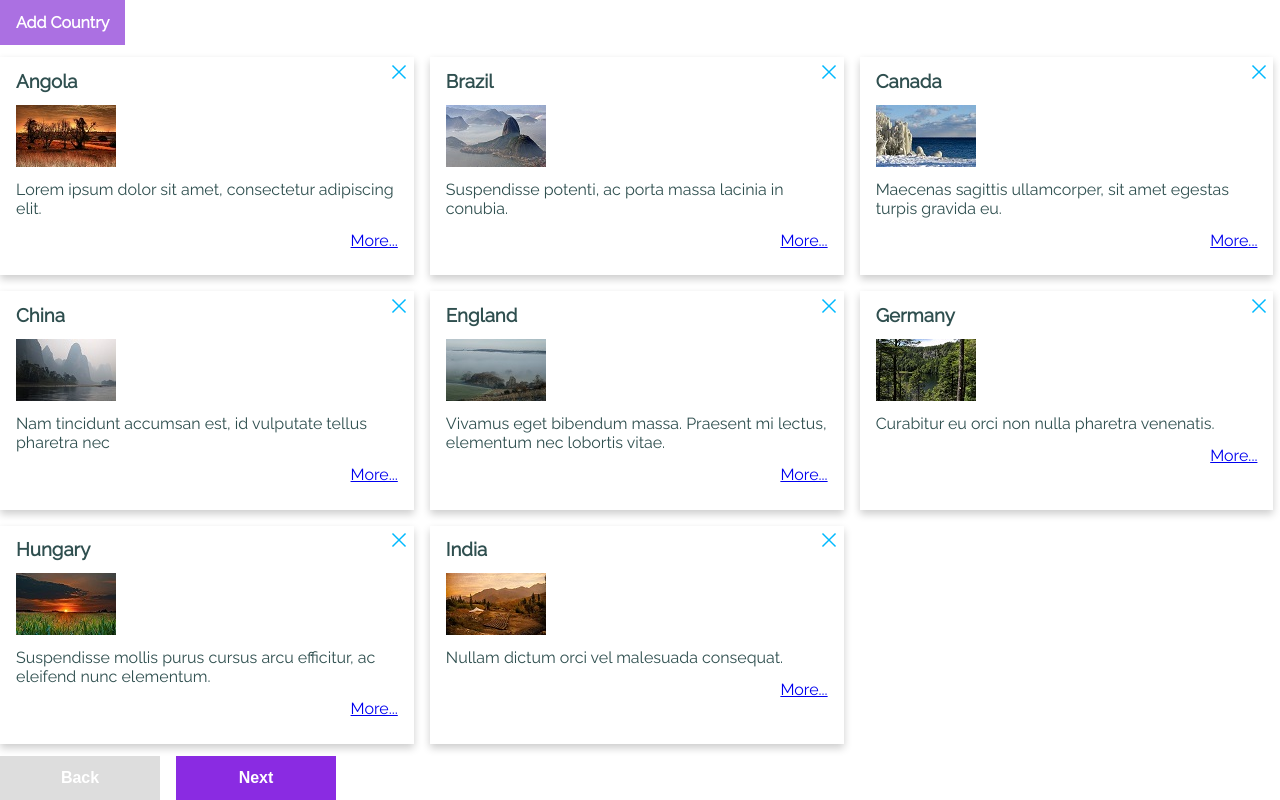
Test case: Delete country › clicking on the OK button deletes the country
Expected: the heading "Angola" is shown, x1=16 y1=70 x2=78 y2=92
Click the button named "Delete country" in the row of "Angola": (399, 72) x1=391 y1=64 x2=407 y2=80
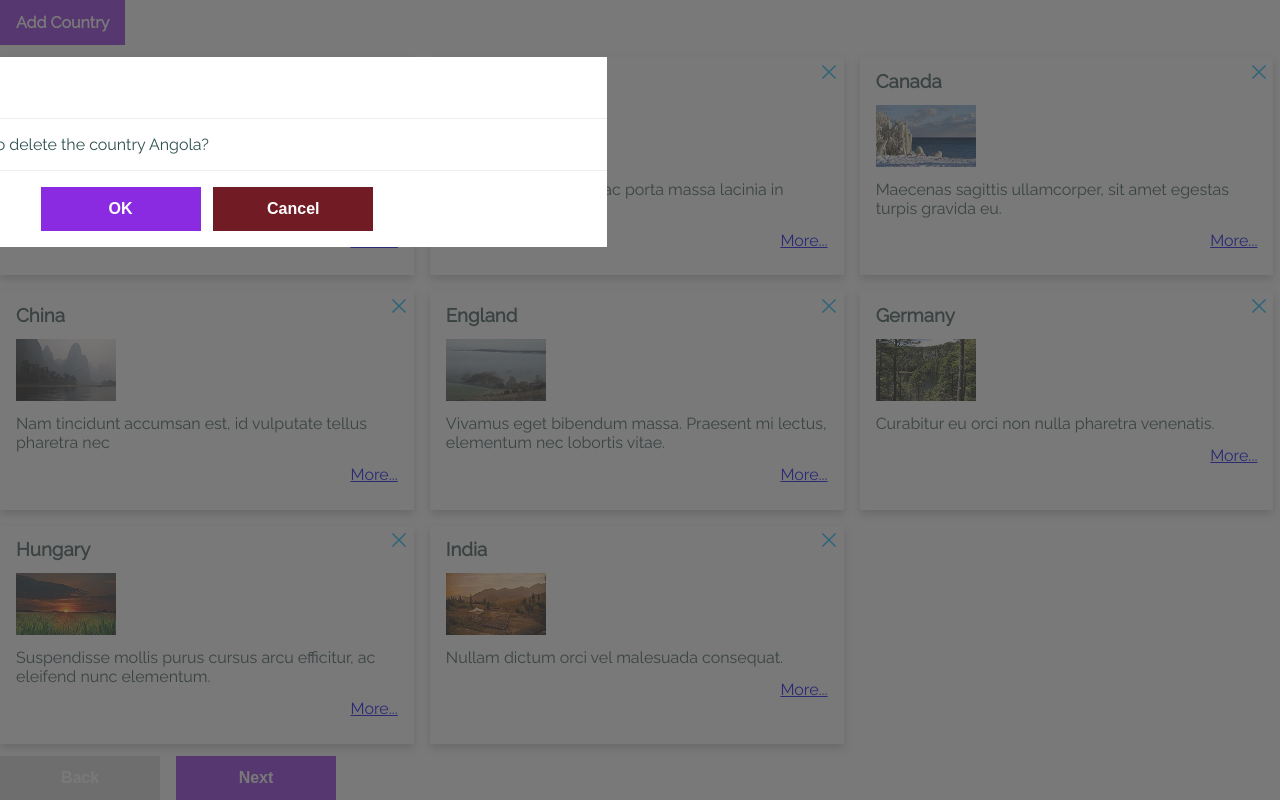
Click the button "OK": (120, 209) x1=40 y1=187 x2=200 y2=231
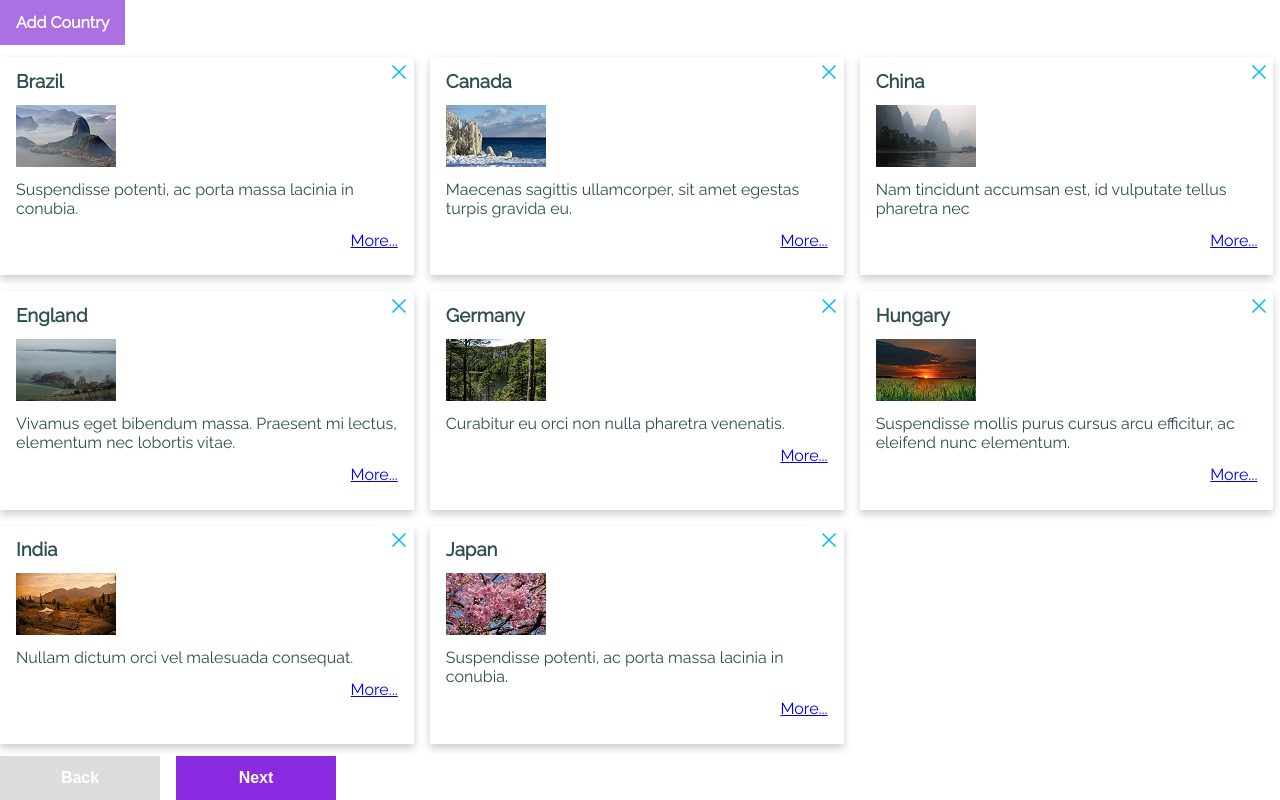
Expected: the text "Angola" is gone
